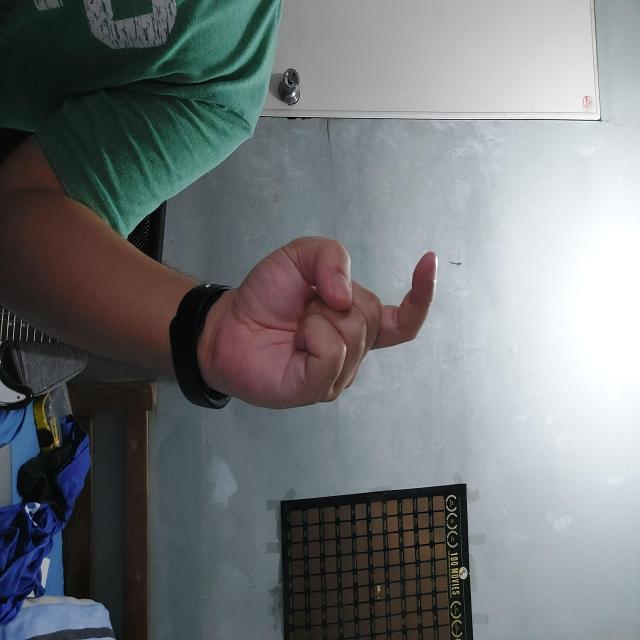X: (234, 200, 411, 430)
